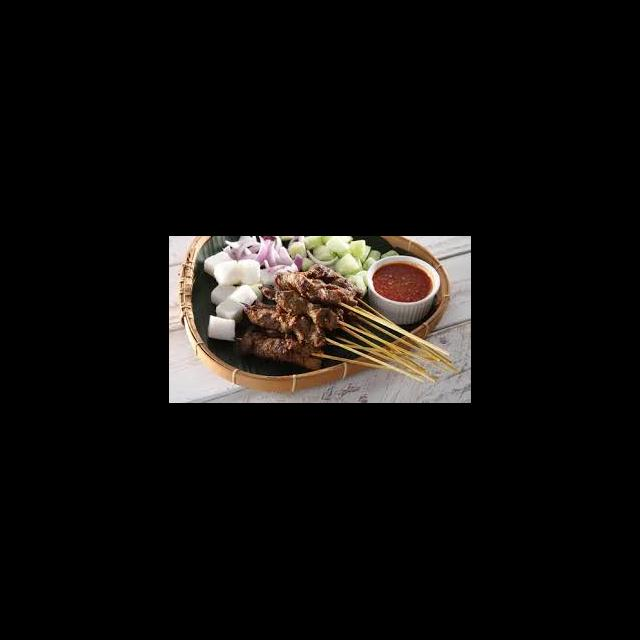food_waste: (228, 244, 327, 336)
